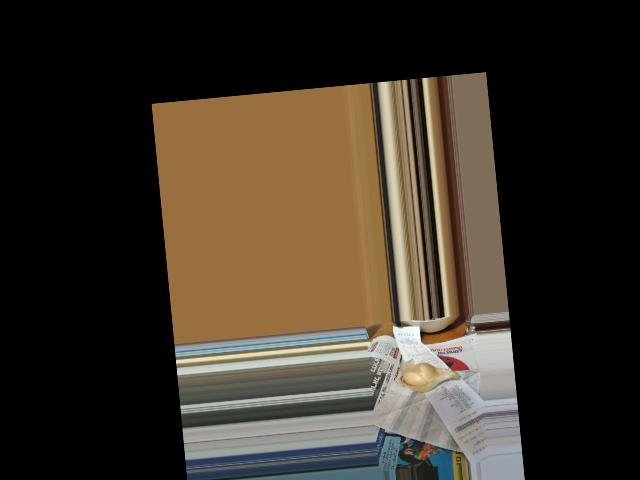onion: (401, 362, 454, 395)
